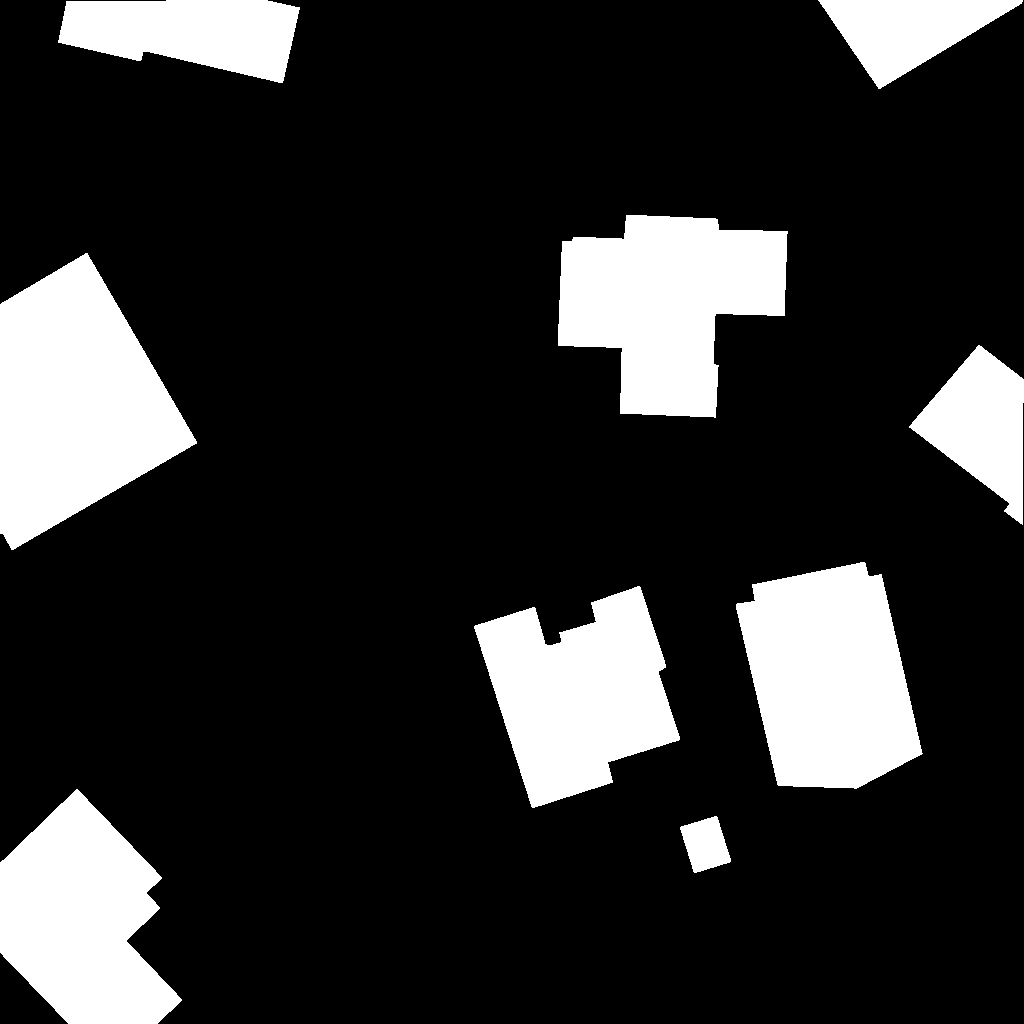building: (0, 253, 198, 551), (558, 215, 788, 418), (474, 586, 681, 809), (0, 789, 183, 1024), (736, 562, 923, 789), (909, 345, 1024, 526), (58, 0, 301, 84), (818, 0, 1024, 90), (680, 816, 732, 874)
